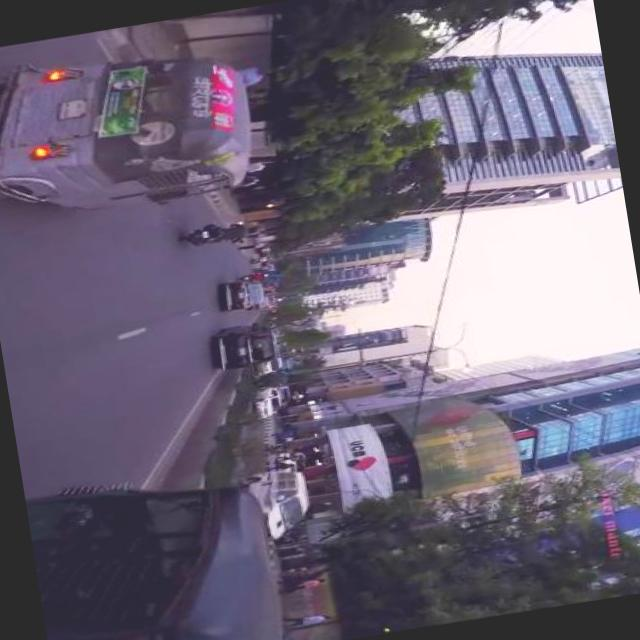car: (225, 275, 270, 310), (256, 383, 285, 418)
motorcycle: (0, 27, 267, 229), (25, 451, 289, 640), (182, 218, 248, 250), (243, 272, 264, 280)
truck: (246, 464, 316, 541), (214, 318, 280, 371)
